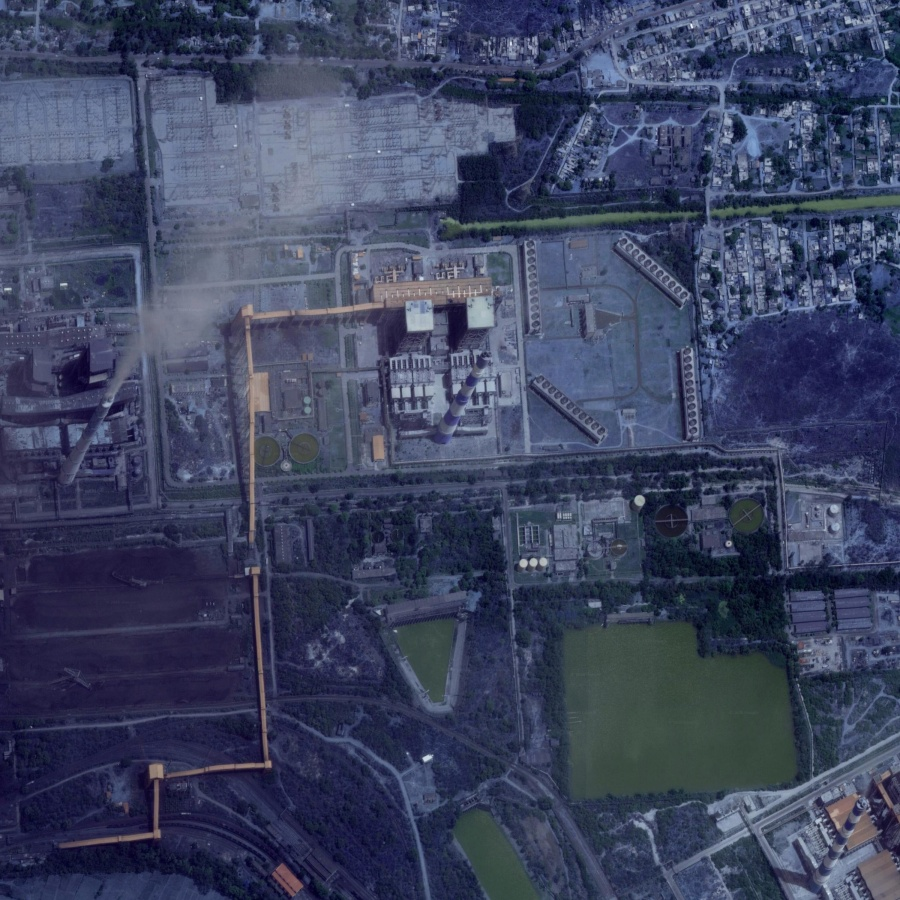PowerPlant: (382, 278, 506, 458)
